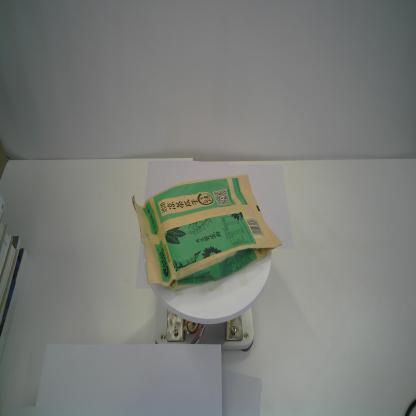Dried Food: (131, 172, 283, 292)
